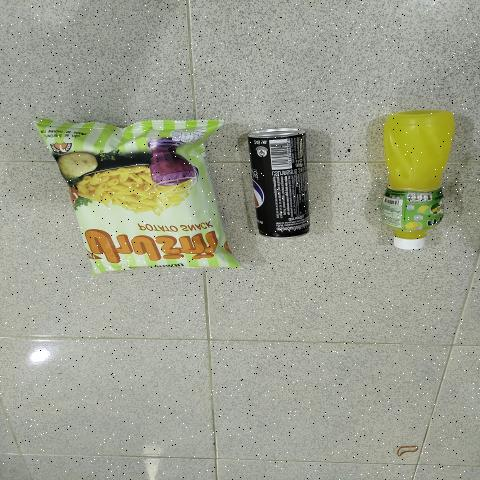paprika: (89, 126, 202, 266)
pepsi_black: (259, 136, 307, 240)
